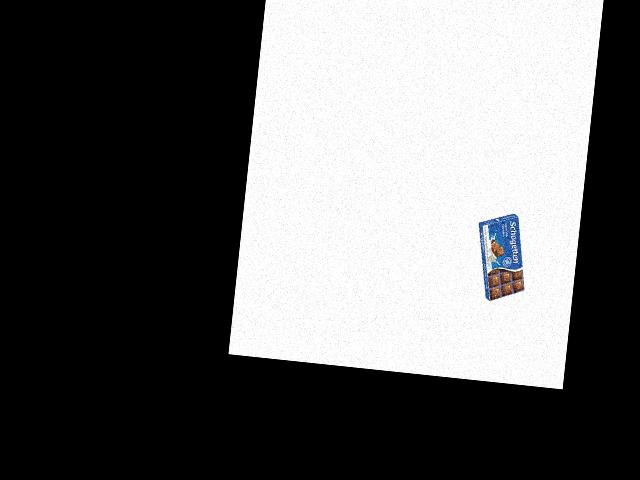chocolate: (477, 209, 532, 305)
